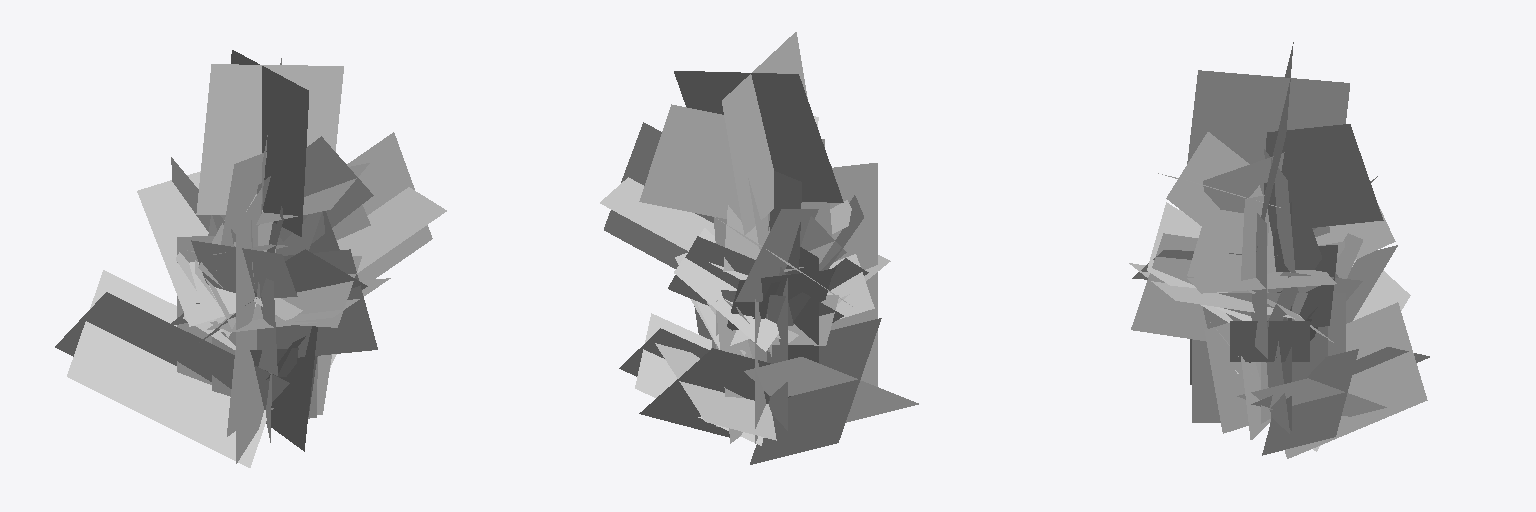
The model's file is SCRUB_SHRUB_1.obj.
3 views of the same model, side by side, from view 1: azimuth 30°, elevation 25°; view 2: azimuth 150°, elevation 25°; view 3: azimuth 270°, elevation 25° (orthographic).
Parts seen in each view (by area): view 1: Plane.003; view 2: Plane.003; view 3: Plane.003.
Boxes of the visible parts, <box> form: Plane.003: <box>55,50,446,467</box>; Plane.003: <box>600,32,918,464</box>; Plane.003: <box>1129,42,1429,458</box>.
Size of the model in its own units: 5.15 by 5.65 by 3.96.